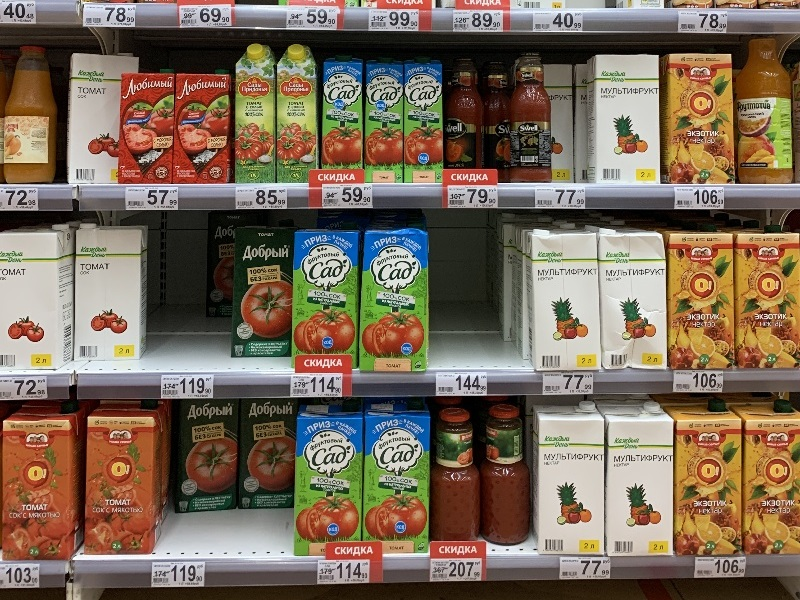juice: (661, 396, 757, 563), (653, 45, 745, 189), (355, 221, 436, 380), (661, 219, 742, 376), (286, 218, 370, 363), (365, 399, 438, 561), (294, 399, 369, 545), (228, 223, 299, 360), (736, 222, 798, 371), (172, 68, 241, 185), (397, 54, 454, 188), (271, 43, 321, 185), (235, 42, 283, 187), (118, 68, 176, 186), (362, 55, 408, 192), (319, 53, 369, 174)
